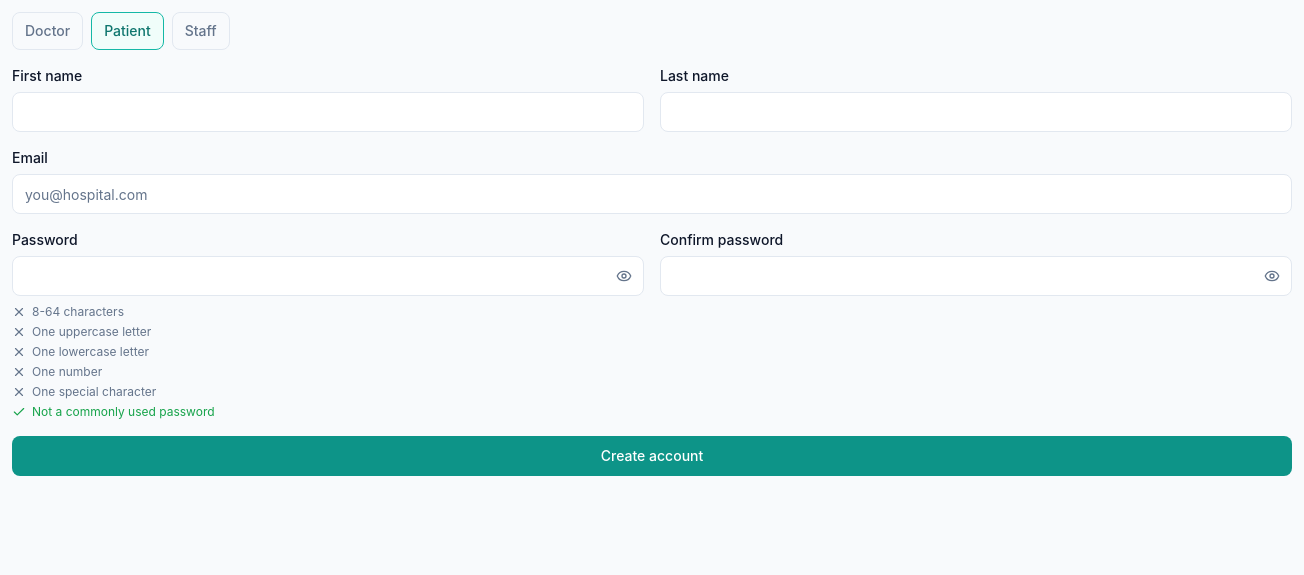
it: ManualSignupForm › shows required-field errors when submitted empty
Step 1. Click the button "Create account" → (652, 456), box [12,436,1292,476]
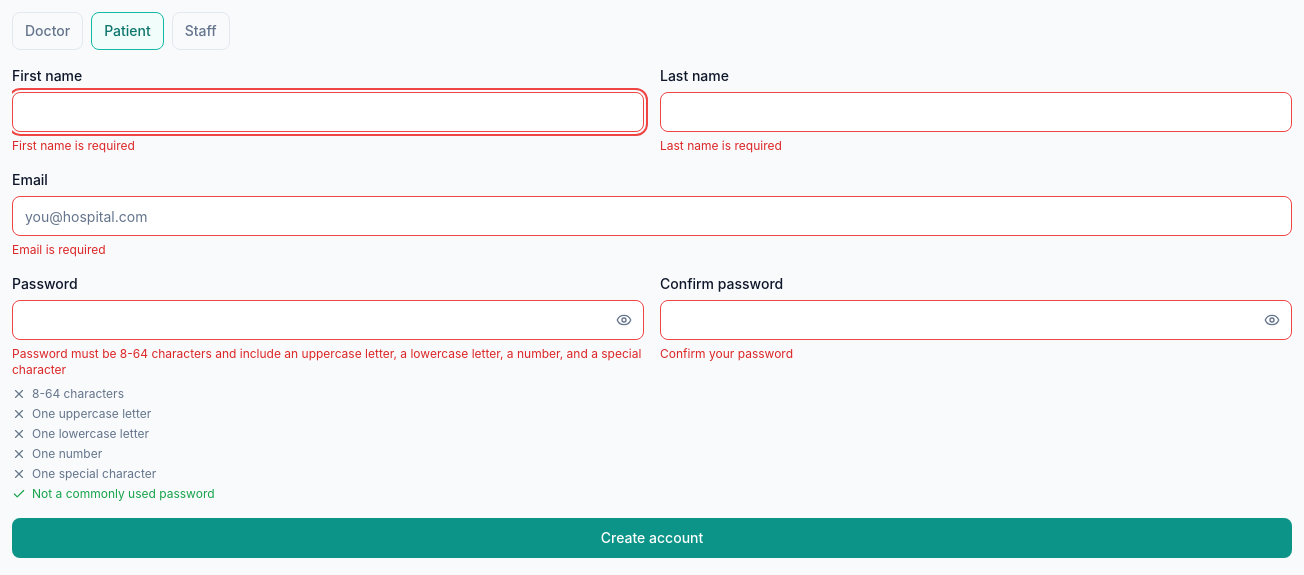
Now the text "First name is required" is shown, box [12,138,135,153]
Now the text "Last name is required" is shown, box [660,138,782,153]
Now the text "Email is required" is shown, box [12,242,106,257]
